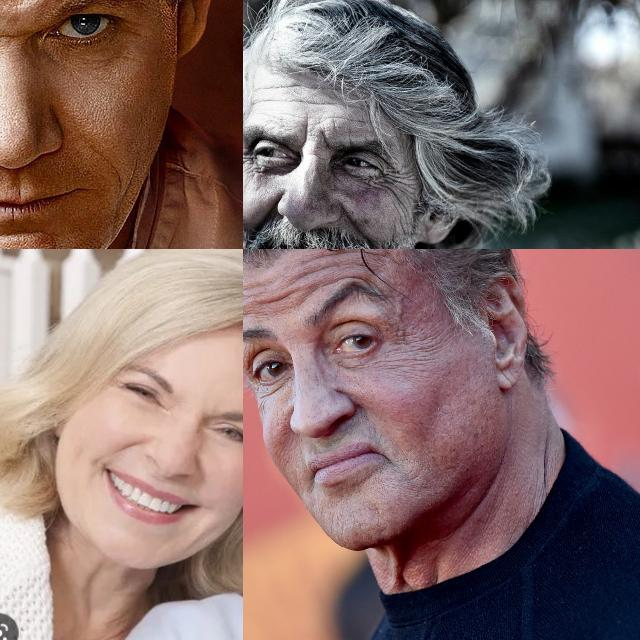chin: (0, 226, 66, 249)
crows_feet: (387, 334, 427, 368), (381, 163, 401, 195), (243, 150, 257, 178)
forehead: (304, 254, 366, 284), (249, 288, 305, 306), (256, 80, 298, 94), (254, 92, 286, 108), (297, 96, 329, 110), (343, 112, 369, 126)
frown_line: (0, 22, 25, 47), (296, 123, 314, 145), (318, 127, 334, 149)
gummy_smile: (344, 206, 368, 244), (256, 196, 280, 224), (116, 434, 144, 454)
masseter: (110, 166, 136, 212), (393, 206, 413, 232)
